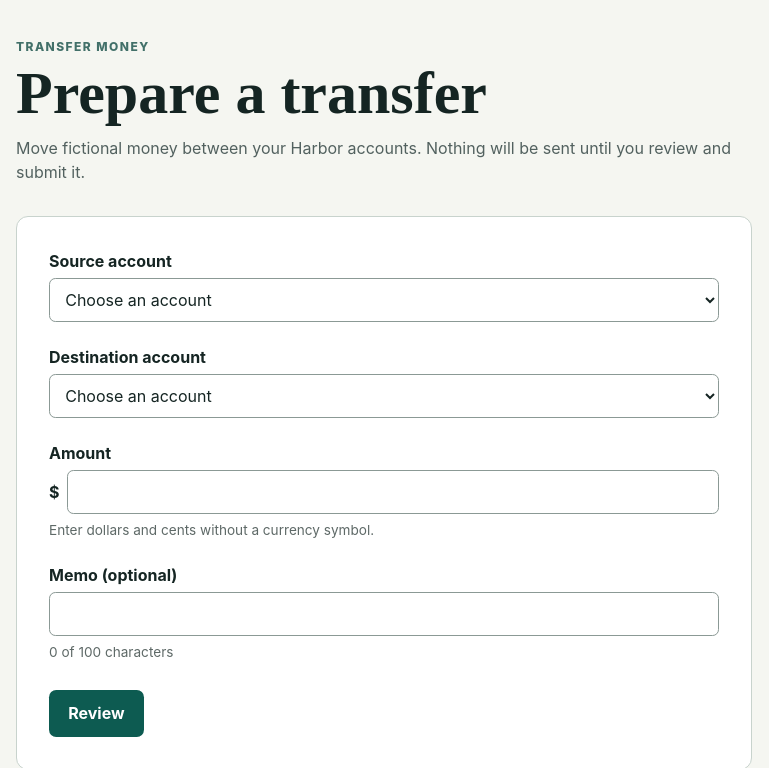
Scenario: transfer form validation › rejects an amount of -1
Select "Everyday Checking (•••• 4821) — available $1,250.00" in the dropdown labelled "Source account" at (384, 300), box [49,278,719,322]
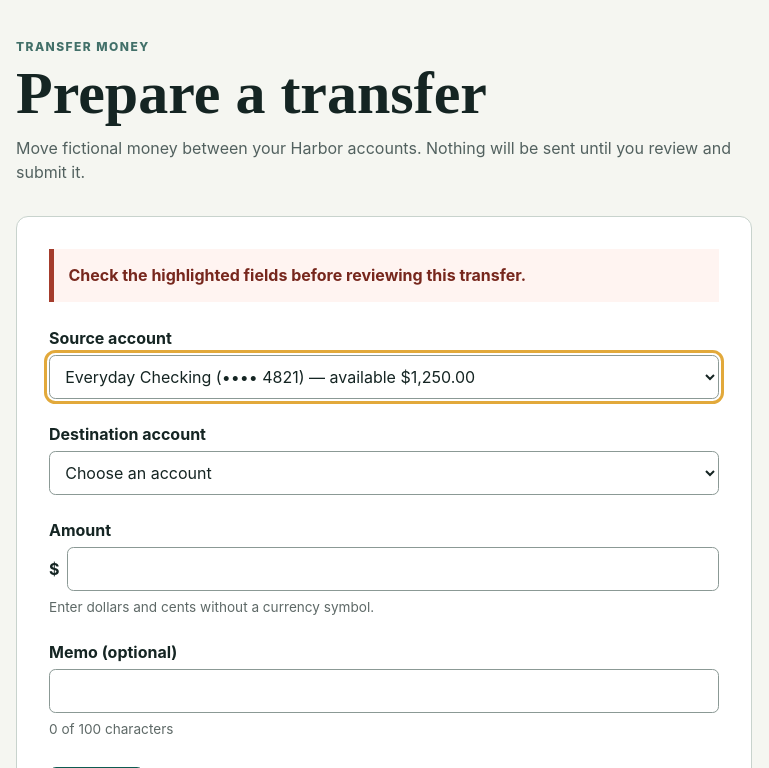
Select "Member Savings (•••• 7314)" in the dropdown labelled "Destination account" at (384, 473), box [49,451,719,495]
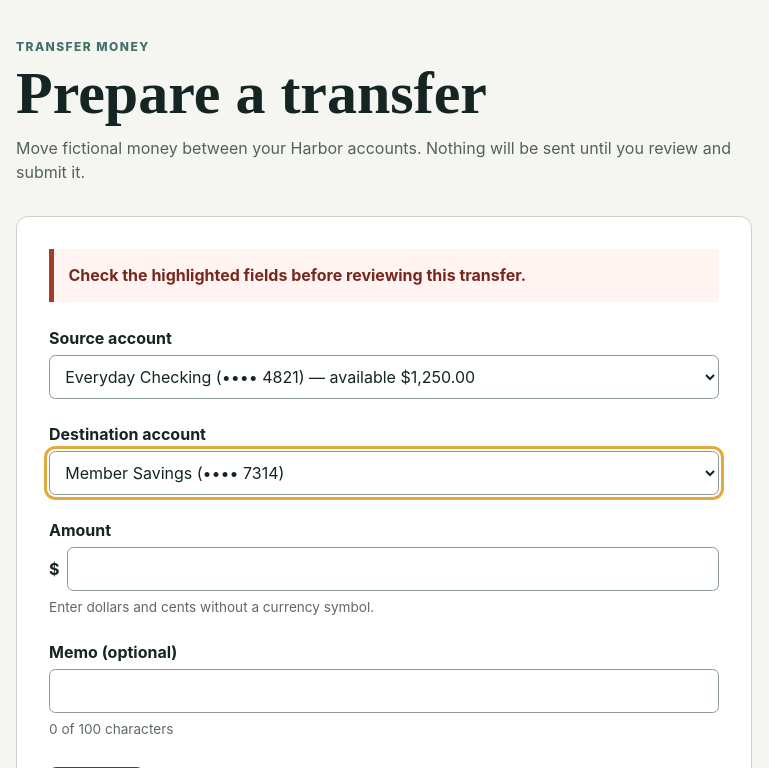
Type "-1" into the number field labelled "Amount" at (393, 569), box [68,547,719,591]
(page scrolled)
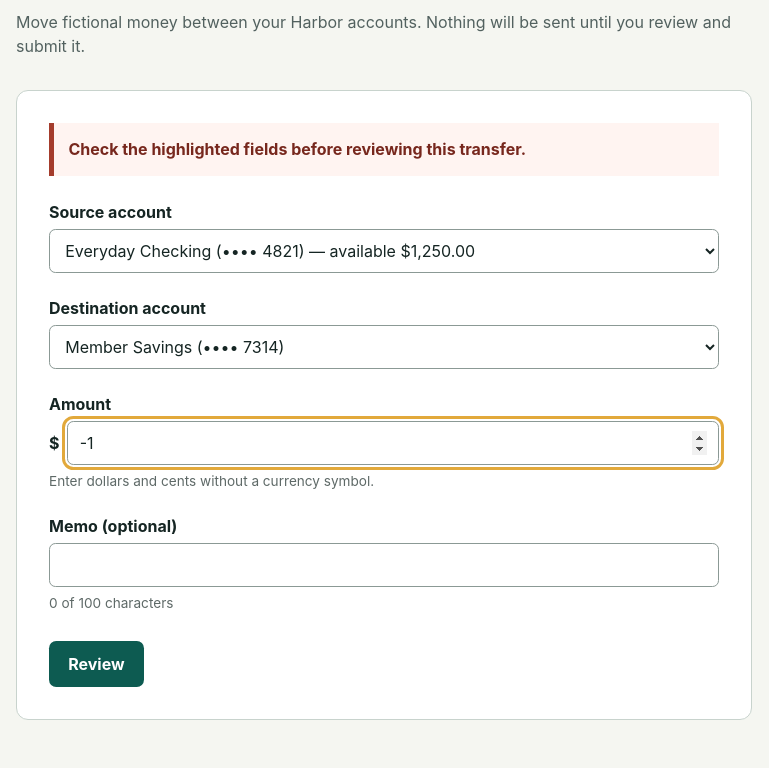
Click the button "Review" at (96, 664), box [49,641,144,688]
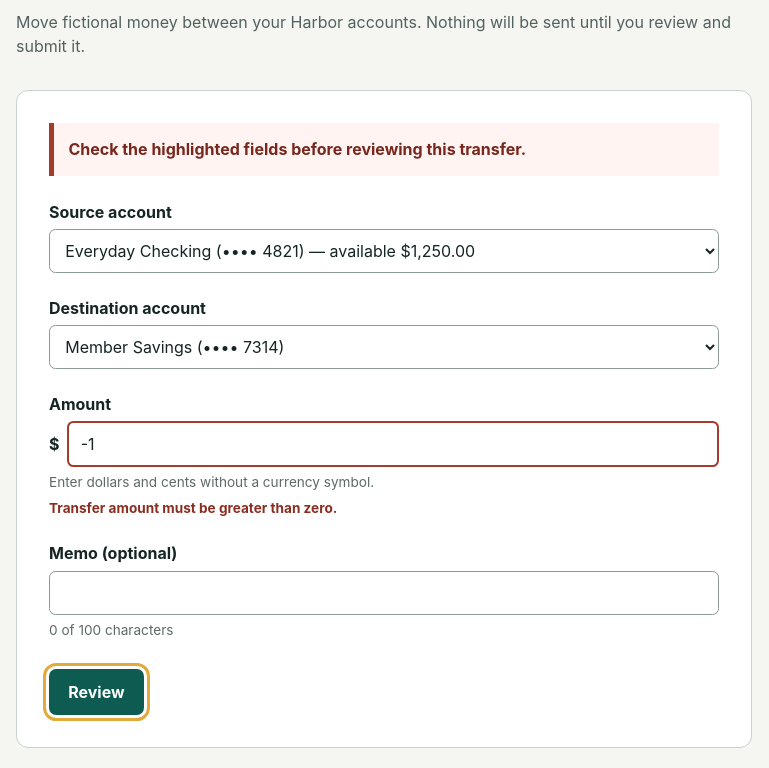
Check: the text "Transfer amount must be greater than zero." is shown, box [49,500,337,516]
